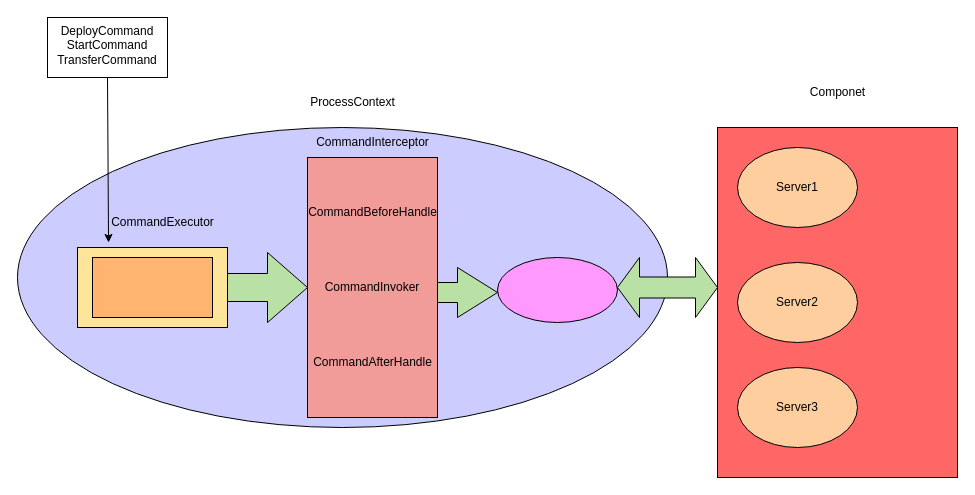
Some shapes in this 975 by 495 pixel diagram are drawn without their labels. Each missing label, with the box of its shape:
Command: (92, 256, 212, 318)
ProcessSession: (496, 256, 618, 322)
